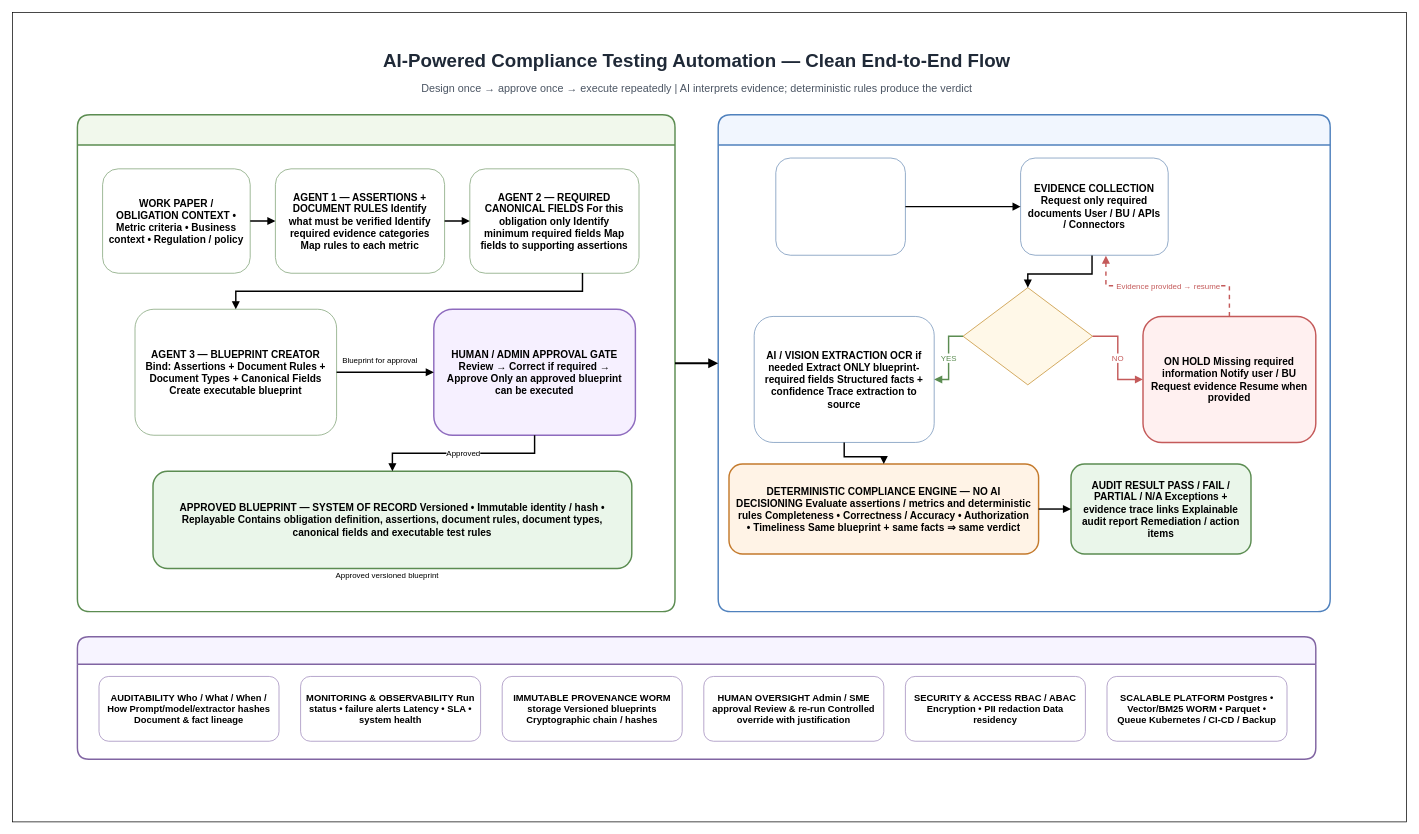
Some shapes in this 1419 by 834 pixel diagram are drawn without their labels. Each missing label, with the box of its shape:
AUDIT REQUEST Obligation + Case Load approved blueprint: (775, 157, 905, 255)
CROSS-CUTTING GOVERNANCE & OPERATIONS: (76, 636, 1316, 760)
PHASE 1 — OBLIGATION ONBOARDING: (76, 114, 675, 612)
PHASE 2 — COMPLIANCE AUDITING: (717, 114, 1331, 612)
REQUIRED EVIDENCE COMPLETE?: (962, 287, 1093, 385)
